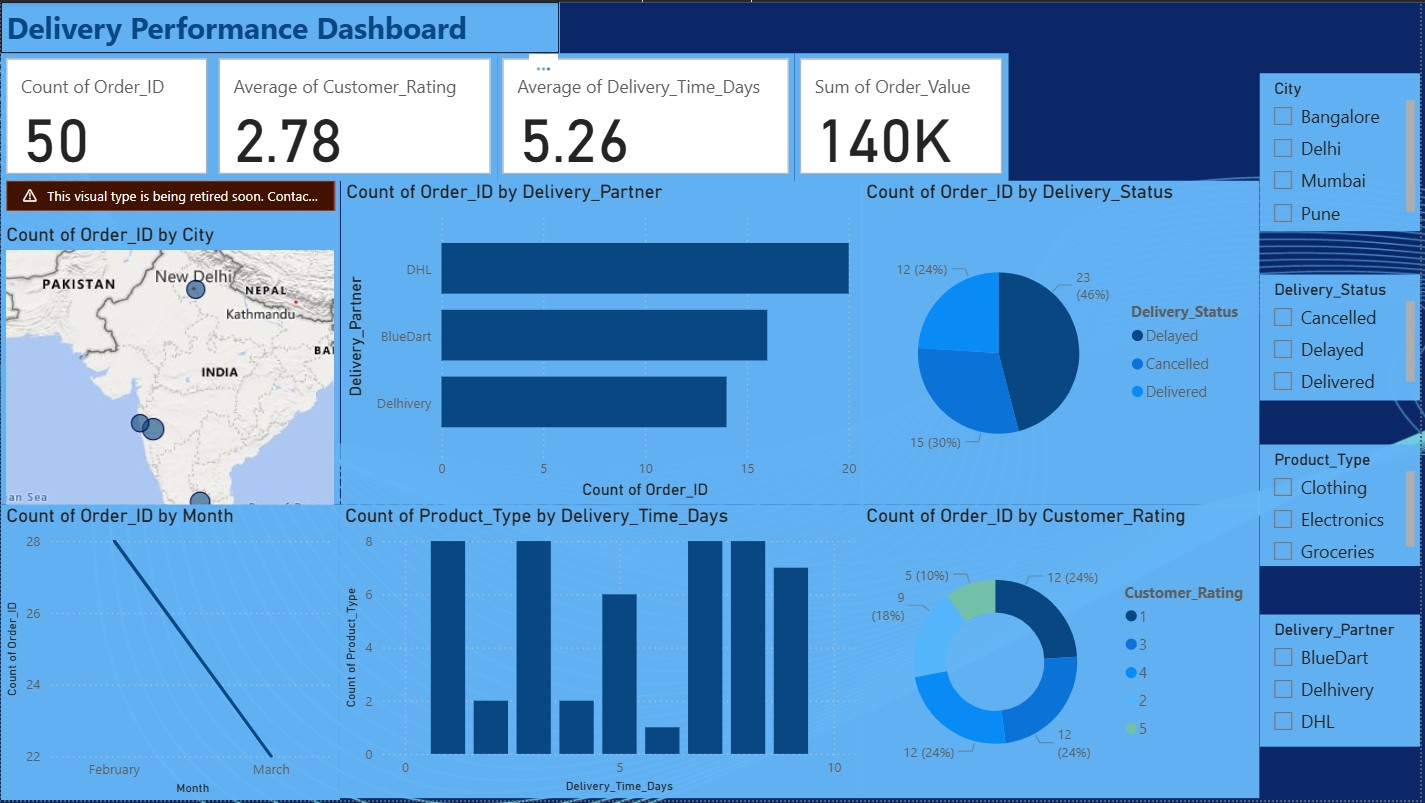

The dashboard page shown, as its layout file describes it:
{"tool":"powerbi","page":{"name":"Page 1","canvas":[1280,720],"ordinal":0},"visuals":[{"type":"cardVisual","fields":{"Data":["CountNonNull(delivery_performance_dataset.Order_ID)"]},"box":[0,46.2,191.6,115],"z":0},{"type":"cardVisual","fields":{"Data":["Sum(delivery_performance_dataset.Order_Value)"]},"box":[715.7,46.2,192.7,115],"z":1000},{"type":"cardVisual","fields":{"Data":["Avg(delivery_performance_dataset.Customer_Rating)"]},"box":[191.6,46.2,255.9,115],"z":2000},{"type":"cardVisual","fields":{"Data":["Avg(delivery_performance_dataset.Delivery_Time_Days)"]},"box":[447.5,46.2,268.3,115],"z":3000},{"type":"map","fields":{"Category":["delivery_performance_dataset.City"],"Size":["CountNonNull(delivery_performance_dataset.Order_ID)"]},"box":[0,161.2,305.4,291.9],"z":4000},{"type":"clusteredBarChart","fields":{"Category":["delivery_performance_dataset.Delivery_Partner"],"Y":["CountNonNull(delivery_performance_dataset.Order_ID)"]},"box":[306.6,161.2,470,291.9],"z":5000},{"type":"pieChart","fields":{"Category":["delivery_performance_dataset.Delivery_Status"],"Y":["CountNonNull(delivery_performance_dataset.Order_ID)"]},"box":[775.5,161.2,359.6,291.9],"z":6000},{"type":"lineChart","fields":{"Category":["delivery_performance_dataset.Order_Date.Variation.Date Hierarchy.Month"],"Y":["CountNonNull(delivery_performance_dataset.Order_ID)"]},"box":[0,453.1,305.4,267.1],"z":7000},{"type":"clusteredColumnChart","fields":{"Y":["CountNonNull(delivery_performance_dataset.Product_Type)"],"Category":["delivery_performance_dataset.Delivery_Time_Days"]},"box":[305.4,453.1,470,264.9],"z":8000},{"type":"donutChart","fields":{"Category":["delivery_performance_dataset.Customer_Rating"],"Y":["CountNonNull(delivery_performance_dataset.Order_ID)"]},"box":[775.5,453.1,359.6,264.9],"z":9000},{"type":"slicer","fields":{"Values":["delivery_performance_dataset.City"]},"box":[1135,64.2,145.4,142],"z":10000},{"type":"slicer","fields":{"Values":["delivery_performance_dataset.Delivery_Status"]},"box":[1135,245.7,145.4,113.8],"z":11000},{"type":"slicer","fields":{"Values":["delivery_performance_dataset.Delivery_Partner"]},"box":[1135,552.3,145.4,119.5],"z":12000},{"type":"slicer","fields":{"Values":["delivery_performance_dataset.Product_Type"]},"box":[1135,399,145.4,109.3],"z":13000},{"type":"textbox","box":[0,0,503.8,46.2],"z":13001}]}

Visuals, with their boxes in screenshot pixels (x1, y1, x2, y2), scaled from the page's 1280x720 canvas onto the 1425x803 screenshot:
cardVisual - CountNonNull(delivery_performance_dataset.Order_ID): 0, 52, 213, 180
cardVisual - Sum(delivery_performance_dataset.Order_Value): 797, 52, 1011, 180
cardVisual - Avg(delivery_performance_dataset.Customer_Rating): 213, 52, 498, 180
cardVisual - Avg(delivery_performance_dataset.Delivery_Time_Days): 498, 52, 797, 180
map - delivery_performance_dataset.City x CountNonNull(delivery_performance_dataset.Order_ID): 0, 180, 340, 505
clusteredBarChart - delivery_performance_dataset.Delivery_Partner x CountNonNull(delivery_performance_dataset.Order_ID): 341, 180, 865, 505
pieChart - delivery_performance_dataset.Delivery_Status x CountNonNull(delivery_performance_dataset.Order_ID): 863, 180, 1264, 505
lineChart - delivery_performance_dataset.Order_Date.Variation.Date Hierarchy.Month x CountNonNull(delivery_performance_dataset.Order_ID): 0, 505, 340, 802
clusteredColumnChart - CountNonNull(delivery_performance_dataset.Product_Type) x delivery_performance_dataset.Delivery_Time_Days: 340, 505, 863, 801
donutChart - delivery_performance_dataset.Customer_Rating x CountNonNull(delivery_performance_dataset.Order_ID): 863, 505, 1264, 801
slicer - delivery_performance_dataset.City: 1264, 72, 1424, 230
slicer - delivery_performance_dataset.Delivery_Status: 1264, 274, 1424, 401
slicer - delivery_performance_dataset.Delivery_Partner: 1264, 616, 1424, 749
slicer - delivery_performance_dataset.Product_Type: 1264, 445, 1424, 567
textbox: 0, 0, 561, 52
